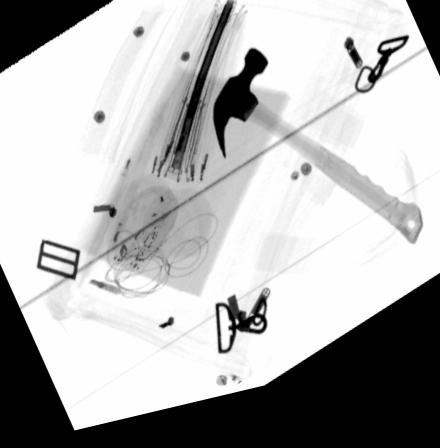Hammer: (210, 59, 422, 265)
